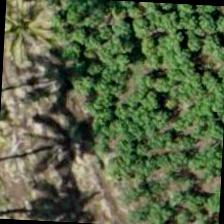Kelapa_Sawit: (2, 0, 71, 71)
